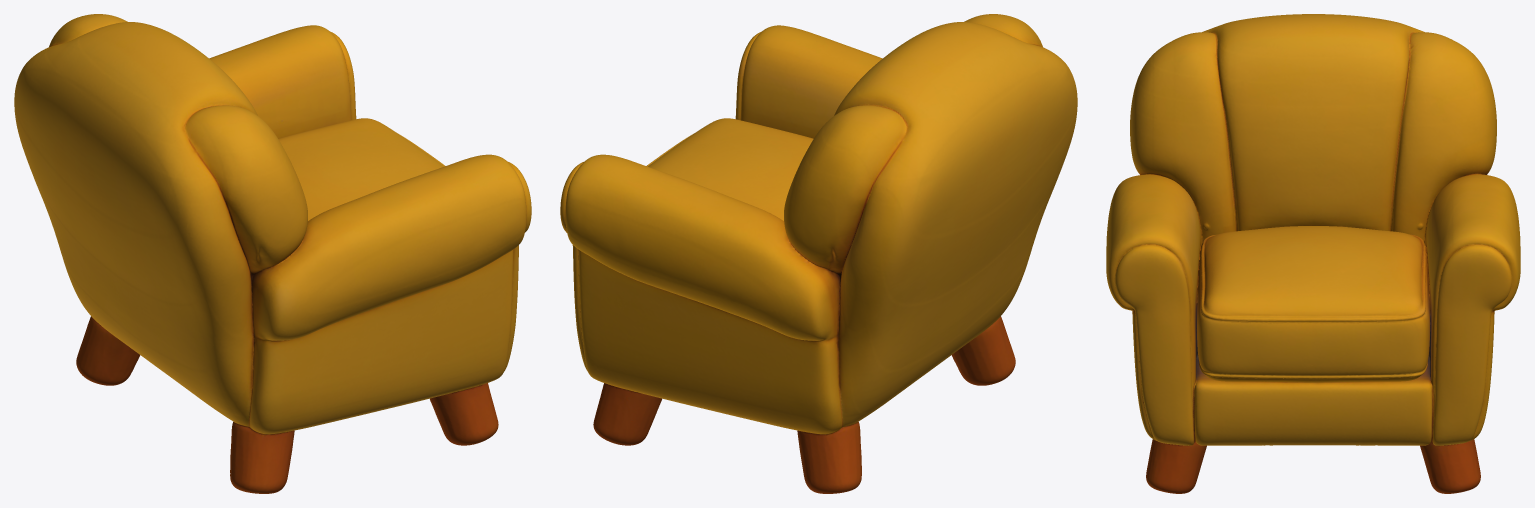
Rendered from armchair.glb.
3 renders of one model, left to right at view 1: azimuth 30°, elevation 25°; view 2: azimuth 150°, elevation 25°; view 3: azimuth 270°, elevation 25°, orthographic. The views are drawn at different scales.
Parts seen in each view (by area): view 1: tripo_node_11687c06-7208-47a8-b1cd-bd7e5454a8c1; view 2: tripo_node_11687c06-7208-47a8-b1cd-bd7e5454a8c1; view 3: tripo_node_11687c06-7208-47a8-b1cd-bd7e5454a8c1.
Boxes of the visible parts, x1,y1,x2,y2 form: tripo_node_11687c06-7208-47a8-b1cd-bd7e5454a8c1: (14,14,531,493); tripo_node_11687c06-7208-47a8-b1cd-bd7e5454a8c1: (560,14,1077,493); tripo_node_11687c06-7208-47a8-b1cd-bd7e5454a8c1: (1106,14,1520,493).
Size of the model in its own units: 0.9232 by 0.9748 by 1.
Materials: 1 (1 with a texture image).
